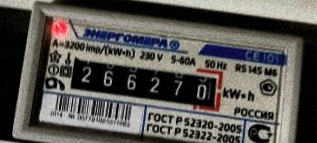0: (193, 80, 207, 101)
2: (77, 62, 94, 85), (147, 73, 161, 95)
6: (100, 67, 115, 88), (124, 70, 138, 91)
7: (170, 76, 184, 97)
screen: (55, 42, 234, 121)
